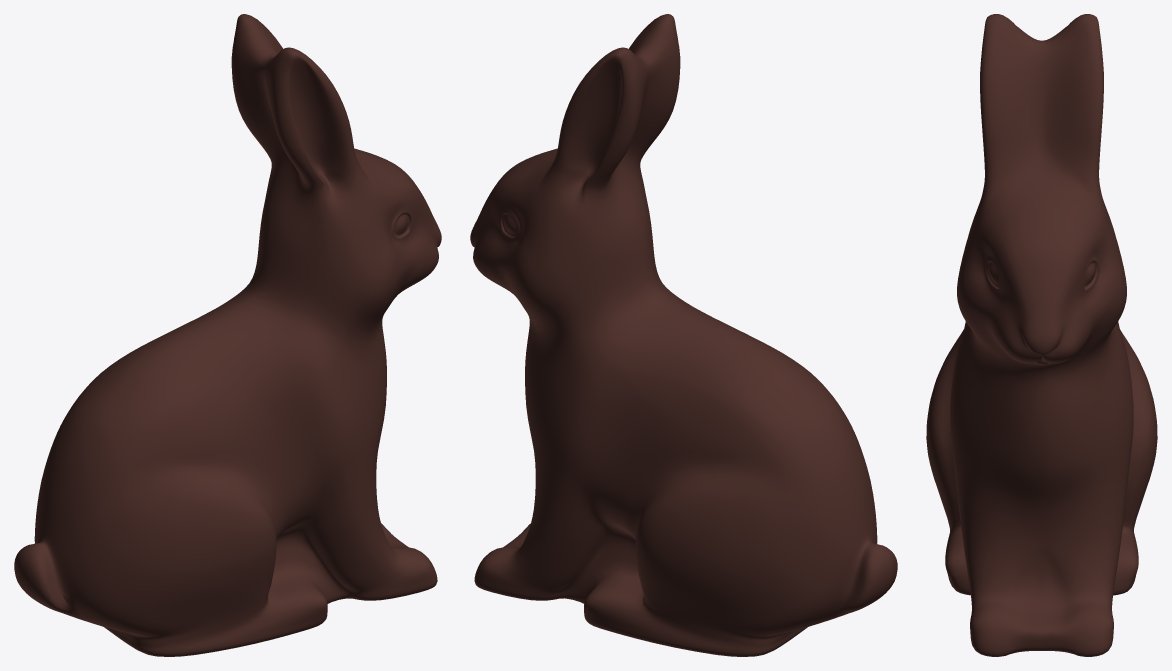
Rendered from bunny.glb.
3 renders of one model, left to right at view 1: azimuth 30°, elevation 25°; view 2: azimuth 150°, elevation 25°; view 3: azimuth 270°, elevation 25°, orthographic.
Parts seen in each view (by area): view 1: Object_2; view 2: Object_2; view 3: Object_2.
Boxes of the visible parts, x1,y1,x2,y2 form: Object_2: [14, 14, 441, 656]; Object_2: [470, 14, 897, 656]; Object_2: [926, 14, 1157, 656].
Bounding box in the file's own units: 8.91 × 11.6 × 4.22.
